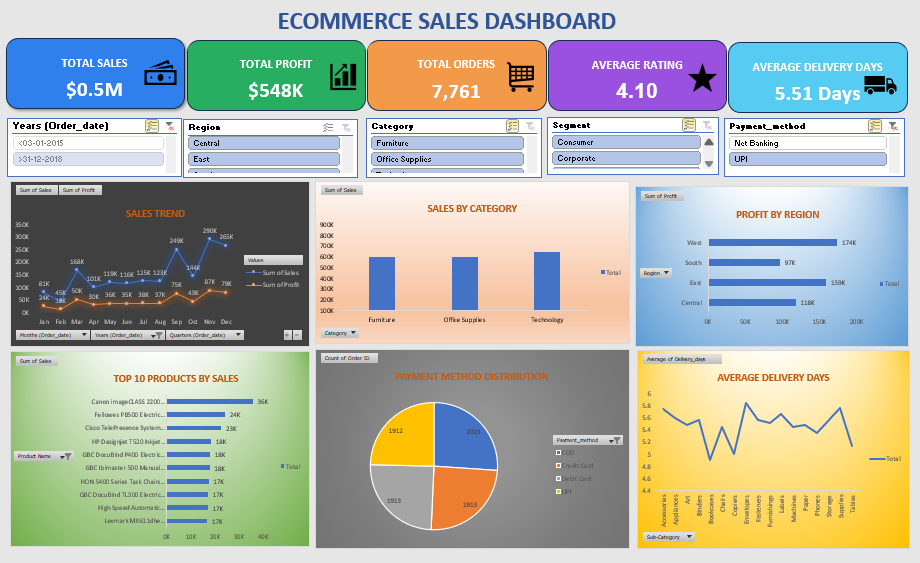

What the dashboard file says about the page in this screenshot:
{"tool":"powerbi","page":{"name":"Page 1","canvas":[1500,1100],"ordinal":0},"visuals":[{"type":"textbox","box":[0,0,1280,115],"z":0},{"type":"textbox","box":[93.6,248.3,94.8,39.9],"z":0,"group":"g1"},{"type":"slicer","fields":{"Values":["cleaned_ecommerce_project.Region"]},"box":[1255,265,210,77.4],"z":0,"group":"g7"},{"type":"image","box":[26,16,162,216],"z":1000},{"type":"textbox","box":[93.6,312.1,94.8,39.9],"z":1000,"group":"g5"},{"type":"slicer","fields":{"Values":["cleaned_ecommerce_project.Category"]},"box":[1255,349.7,212.2,77.4],"z":1000,"group":"g7"},{"type":"slicer","fields":{"Values":["cleaned_ecommerce_project.Sub-Category"]},"box":[1255,434.3,212.2,77.4],"z":2000,"group":"g7"},{"type":"image","box":[35,812.5,182.5,237.5],"z":2000},{"type":"textbox","box":[93.6,375.9,94.8,39.9],"z":3000,"group":"g2"},{"type":"slicer","fields":{"Values":["cleaned_ecommerce_project.Month"]},"box":[1255,519,212.2,77.4],"z":3000,"group":"g7"},{"type":"image","box":[24,544,186,294],"z":3000},{"type":"cardVisual","title":"TOTAL SALES","fields":{"Data":["Sum(cleaned_ecommerce_project.Sales)","Sum(cleaned_ecommerce_project.Profit)","CountNonNull(cleaned_ecommerce_project.Order ID)","Count(cleaned_ecommerce_project.Customer ID)","Avg(cleaned_ecommerce_project.Delivery_days)"]},"box":[217.5,90,1282.5,175],"z":4000},{"type":"group","id":"g1","title":"Group 1","box":[36.7,248.3,151.7,39.9],"z":4000,"group":"g6"},{"type":"textbox","box":[93.6,439.7,94.8,39.9],"z":4000,"group":"g3"},{"type":"cardVisual","title":"Date Last Refreshed:","fields":{"Data":["Query1.Last Refresh"]},"box":[1192.2,15.6,257.8,73.3],"z":5000},{"type":"image","box":[36.7,248.3,37.9,39.9],"z":5000,"group":"g1"},{"type":"group","id":"g2","title":"Group 3","box":[36.7,375.9,151.7,40.2],"z":5000,"group":"g6"},{"type":"textbox","box":[93.6,503.4,94.8,39.9],"z":5000,"group":"g4"},{"type":"image","box":[1200,15.6,55.6,32.2],"z":6000},{"type":"image","box":[36.7,312.3,37.9,39.9],"z":6000,"group":"g5"},{"type":"group","id":"g3","title":"Group 4","box":[36.7,439.7,151.7,40.4],"z":6000,"group":"g6"},{"type":"stackedAreaChart","title":"Monthly Sales Trend","fields":{"Category":["cleaned_ecommerce_project.Month Number","cleaned_ecommerce_project.Month"],"Y":["Sum(cleaned_ecommerce_project.Sales)"]},"box":[284.5,270,455.5,214.5],"z":7000},{"type":"image","box":[36.7,376.2,37.9,39.9],"z":7000,"group":"g2"},{"type":"group","id":"g4","title":"Group 5","box":[36.7,503.4,151.7,40.5],"z":7000,"group":"g6"},{"type":"image","box":[360,270,60,26.2],"z":8000},{"type":"image","box":[36.7,440.2,37.9,39.9],"z":8000,"group":"g3"},{"type":"barChart","title":"Profit by Product Name","fields":{"Category":["cleaned_ecommerce_project.Product Name"],"Y":["Sum(cleaned_ecommerce_project.Profit)"]},"box":[782.5,270,445,215],"z":9000},{"type":"group","id":"g5","title":"Group 2","box":[36.7,312.1,151.7,40],"z":9000,"group":"g6"},{"type":"image","box":[36.7,504.1,37.9,39.9],"z":9000,"group":"g4"},{"type":"image","box":[838.2,268.2,41.8,29.1],"z":10000},{"type":"columnChart","title":"Discount by Segment","fields":{"Category":["cleaned_ecommerce_project.Segment"],"Y":["Sum(cleaned_ecommerce_project.Discount)"]},"box":[254,504,298,214],"z":11000},{"type":"pieChart","title":"Orders by Payment_method","fields":{"Category":["cleaned_ecommerce_project.Payment_method"],"Y":["Count(cleaned_ecommerce_project.Order ID)"]},"box":[604,504,270,216],"z":12000},{"type":"treemap","title":"City Count by Order_status","fields":{"Group":["cleaned_ecommerce_project.Month"],"Values":["CountNonNull(cleaned_ecommerce_project.Order_status)"]},"box":[906,504,314,214],"z":13000},{"type":"group","id":"g6","title":"Group 7","box":[36.7,248.3,151.7,295],"z":14000},{"type":"slicer","fields":{"Values":["cleaned_ecommerce_project.Order_date"]},"box":[1255,597.9,212.2,121.8],"z":14000,"group":"g8"},{"type":"group","id":"g7","title":"Group 6","box":[1255,265,212.2,331.4],"z":15000,"group":"g8"},{"type":"waterfallChart","title":"Discount by Region","fields":{"Category":["cleaned_ecommerce_project.Region"],"Y":["Sum(cleaned_ecommerce_project.Discount)"]},"box":[250,738,354,312],"z":15000},{"type":"funnel","title":"Shipping_cost by Category","fields":{"Category":["cleaned_ecommerce_project.Category"],"Y":["Sum(cleaned_ecommerce_project.Shipping_cost)"]},"box":[648,740,416,310],"z":16000},{"type":"gauge","fields":{"Y":["Avg(cleaned_ecommerce_project.Customer_rating)"]},"box":[1094,740,342,308],"z":17000},{"type":"group","id":"g8","title":"Group 8","box":[1255,265,212.5,455],"z":18000}]}

Visuals, with their boxes on the page's 1500x1100 design canvas (x1, y1, x2, y2). These are canvas units, not pixel positions in the 920x563 screenshot, which may show the page scaled, cropped or inside an application window:
textbox: (0,0,1280,115)
textbox: (94,248,188,288)
slicer - cleaned_ecommerce_project.Region: (1255,265,1465,342)
image: (26,16,188,232)
textbox: (94,312,188,352)
slicer - cleaned_ecommerce_project.Category: (1255,350,1467,427)
slicer - cleaned_ecommerce_project.Sub-Category: (1255,434,1467,512)
image: (35,812,218,1050)
textbox: (94,376,188,416)
slicer - cleaned_ecommerce_project.Month: (1255,519,1467,596)
image: (24,544,210,838)
"TOTAL SALES" cardVisual: (218,90,1500,265)
"Group 1" group: (37,248,188,288)
textbox: (94,440,188,480)
"Date Last Refreshed:" cardVisual: (1192,16,1450,89)
image: (37,248,75,288)
"Group 3" group: (37,376,188,416)
textbox: (94,503,188,543)
image: (1200,16,1256,48)
image: (37,312,75,352)
"Group 4" group: (37,440,188,480)
"Monthly Sales Trend" stackedAreaChart: (284,270,740,484)
image: (37,376,75,416)
"Group 5" group: (37,503,188,544)
image: (360,270,420,296)
image: (37,440,75,480)
"Profit by Product Name" barChart: (782,270,1228,485)
"Group 2" group: (37,312,188,352)
image: (37,504,75,544)
image: (838,268,880,297)
"Discount by Segment" columnChart: (254,504,552,718)
"Orders by Payment_method" pieChart: (604,504,874,720)
"City Count by Order_status" treemap: (906,504,1220,718)
"Group 7" group: (37,248,188,543)
slicer - cleaned_ecommerce_project.Order_date: (1255,598,1467,720)
"Group 6" group: (1255,265,1467,596)
"Discount by Region" waterfallChart: (250,738,604,1050)
"Shipping_cost by Category" funnel: (648,740,1064,1050)
gauge - Avg(cleaned_ecommerce_project.Customer_rating): (1094,740,1436,1048)
"Group 8" group: (1255,265,1468,720)
